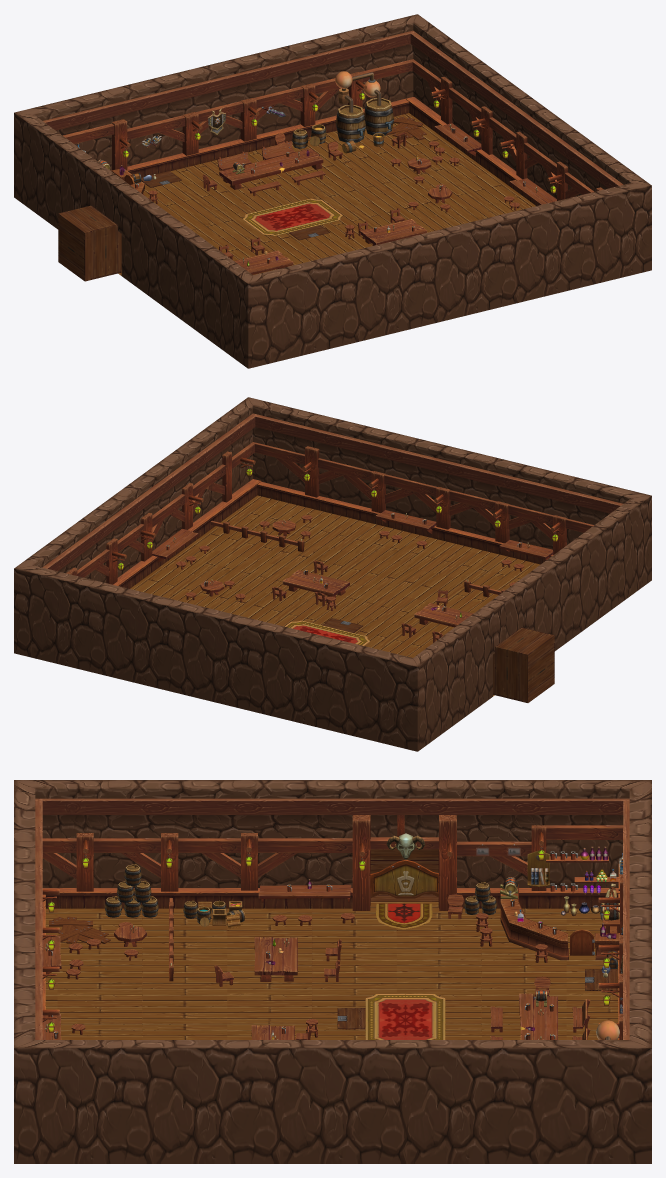
File: Dimian.FBX
3 views of the same model, one above another, from view 1: azimuth 30°, elevation 25°; view 2: azimuth 150°, elevation 25°; view 3: azimuth 270°, elevation 25° (orthographic). The views are drawn at different scales.
Visible parts, largest first — view 1: qiangti_01, jiutong_05, 对象007, 对象027, zuoyi_02, zuoyi_01, zuoyi_013, 对象026, zuoyi_09, 对象003; view 2: qiangti_01, zuoyi_05 (×2), zuoyi_02, zuoyi_09, 对象026, 对象007; view 3: qiangti_01, 对象007, batai_01, jiutong_01, 对象026, 对象027, wujian_01, 对象002, 对象012, 对象004, zuoyi_01, damen_01 (+10 smaller).
Boxes of the visible parts, <box> form: qiangti_01: <box>14,14,651,368</box>; jiutong_05: <box>335,71,393,148</box>; 对象007: <box>242,198,342,236</box>; 对象027: <box>219,148,323,189</box>; zuoyi_02: <box>358,208,427,245</box>; zuoyi_01: <box>202,133,325,195</box>; zuoyi_013: <box>428,123,481,165</box>; 对象026: <box>234,250,293,274</box>; zuoyi_09: <box>504,178,556,210</box>; 对象003: <box>386,117,426,140</box>; qiangti_01: <box>14,397,651,751</box>; zuoyi_05 (×2): <box>375,510,553,571</box>; zuoyi_02: <box>272,560,349,606</box>; zuoyi_09: <box>152,529,209,569</box>; 对象026: <box>414,603,473,627</box>; 对象007: <box>285,620,369,645</box>; qiangti_01: <box>14,780,651,1163</box>; 对象007: <box>365,994,445,1039</box>; batai_01: <box>500,856,619,960</box>; jiutong_01: <box>104,864,158,917</box>; 对象026: <box>254,937,297,981</box>; 对象027: <box>519,993,557,1039</box>; wujian_01: <box>550,846,622,938</box>; 对象002: <box>258,884,351,902</box>; 对象012: <box>370,859,405,898</box>; 对象004: <box>49,916,110,943</box>; zuoyi_01: <box>490,976,590,1039</box>; damen_01: <box>406,859,438,898</box>.
Bounding box in the file's own units: 1855 × 355 × 1723.
